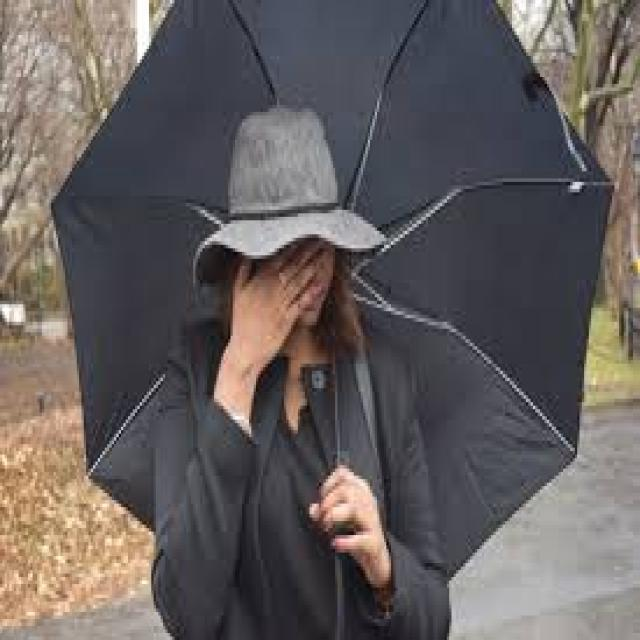hat: (193, 112, 386, 329)
